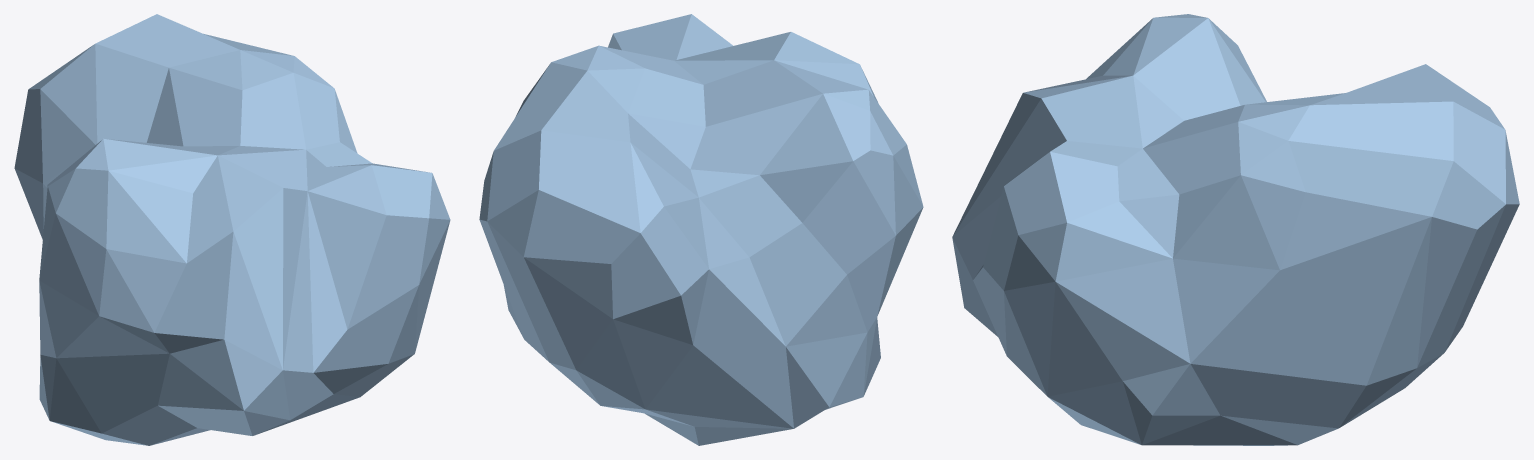
Rendered from Cloud1.fbx.
3 views of the same model, side by side, from view 1: azimuth 30°, elevation 25°; view 2: azimuth 150°, elevation 25°; view 3: azimuth 270°, elevation 25° (orthographic). The views are drawn at different scales.
Parts seen in each view (by area): view 1: Cloud1; view 2: Cloud1; view 3: Cloud1.
Boxes of the visible parts, <box> form: Cloud1: <box>14,14,450,445</box>; Cloud1: <box>479,14,923,445</box>; Cloud1: <box>952,14,1519,445</box>.
Size of the model in its own units: 131 by 122 by 166.
